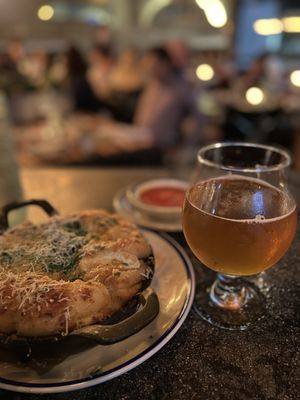curry: (1, 140, 300, 398)
sandwich: (0, 208, 154, 339), (181, 173, 299, 331)
